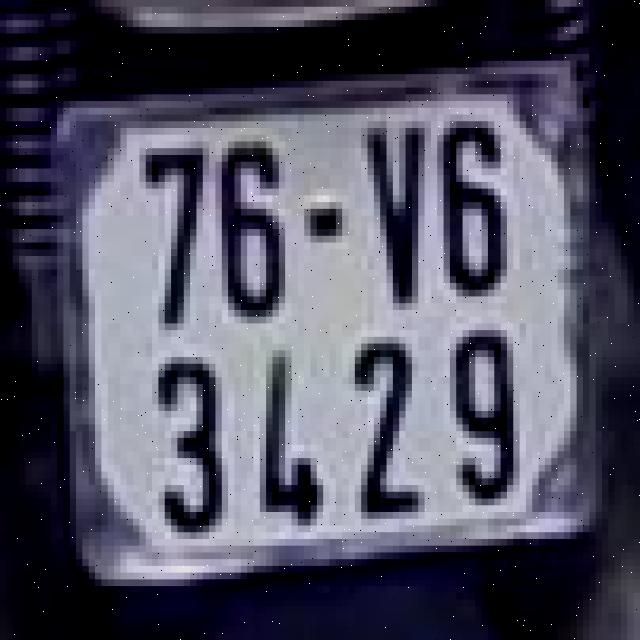2: (336, 327, 424, 522)
3: (149, 347, 231, 542)
4: (247, 340, 336, 536)
6: (440, 108, 523, 303), (218, 131, 294, 327)
7: (127, 135, 209, 330)
9: (450, 313, 526, 522)
V: (361, 114, 425, 310)
